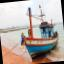fishing boat: (16, 0, 63, 61)
